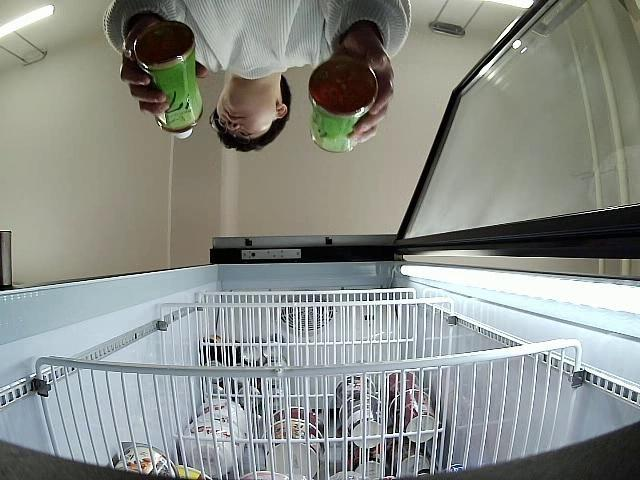19_17cha: (133, 19, 203, 140), (309, 58, 378, 152)
